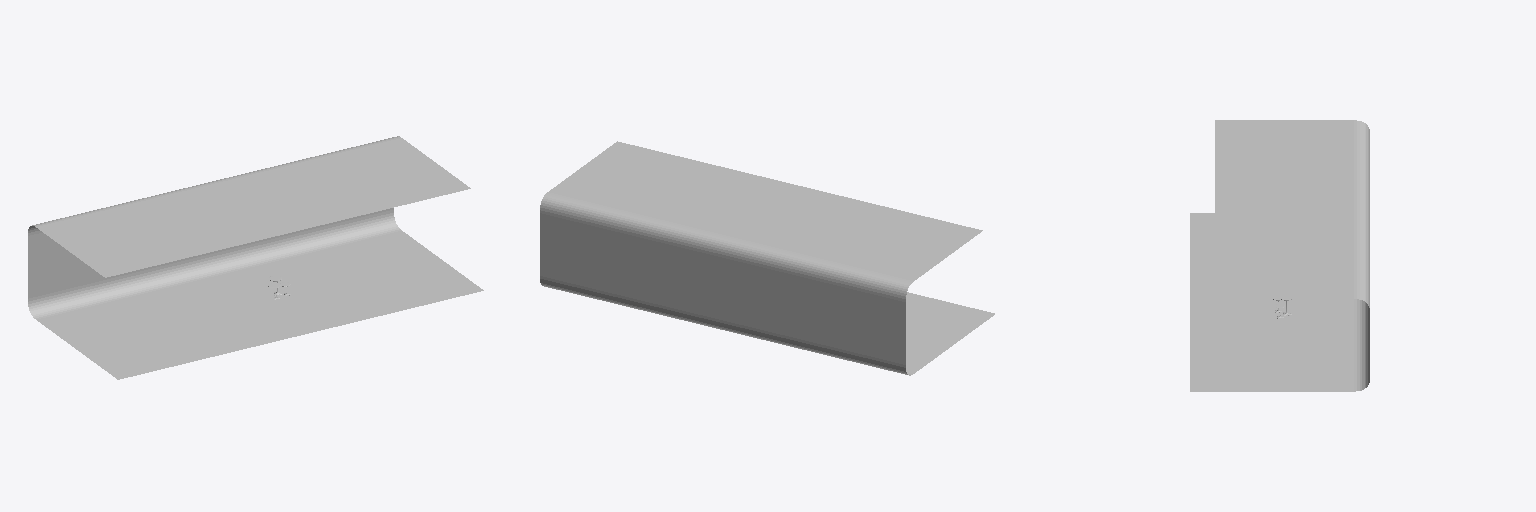
File: mesas.obj
3 renders of one model, left to right at view 1: azimuth 30°, elevation 25°; view 2: azimuth 150°, elevation 25°; view 3: azimuth 270°, elevation 25°, orthographic.
Visible parts, largest first — view 1: Plane001; view 2: Plane001; view 3: Plane001.
Part boxes in pixels (left/top/right/bottom): Plane001: left=28, top=136, right=483, bottom=379; Plane001: left=540, top=141, right=994, bottom=375; Plane001: left=1190, top=120, right=1369, bottom=391.
Size of the model in its own units: 423 by 102 by 181.